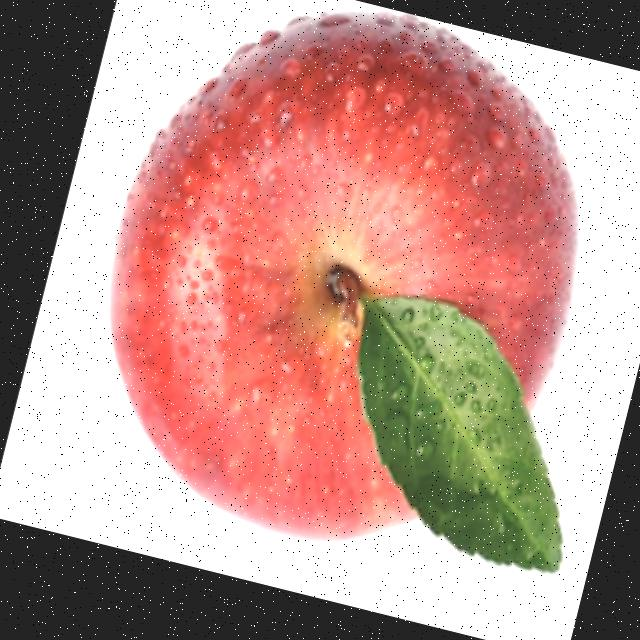Ripe: (44, 0, 635, 599)
